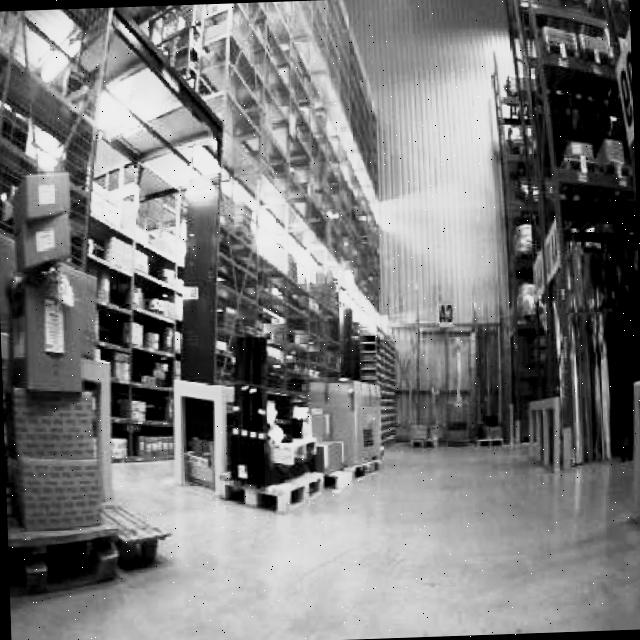ground: (6, 430, 640, 640)
pallet: (0, 166, 172, 596), (490, 0, 640, 469), (170, 326, 388, 516), (3, 376, 123, 594), (305, 373, 387, 490), (101, 496, 175, 569), (526, 393, 575, 471), (627, 372, 640, 537)
